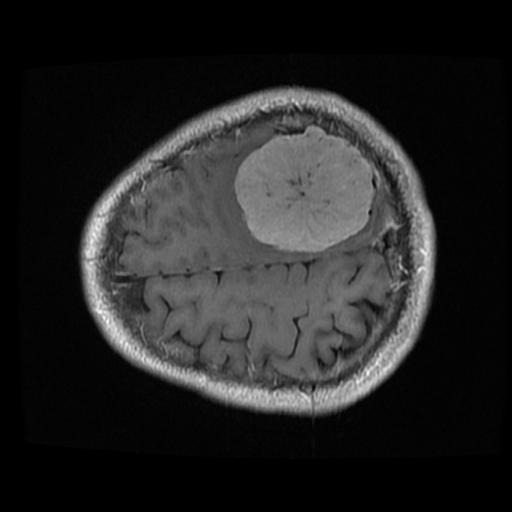meningioma: (232, 123, 374, 253)
